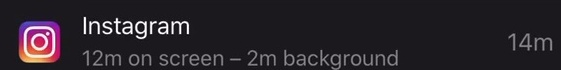name: (76, 7, 200, 44)
time: (77, 47, 127, 70), (246, 44, 279, 70)
